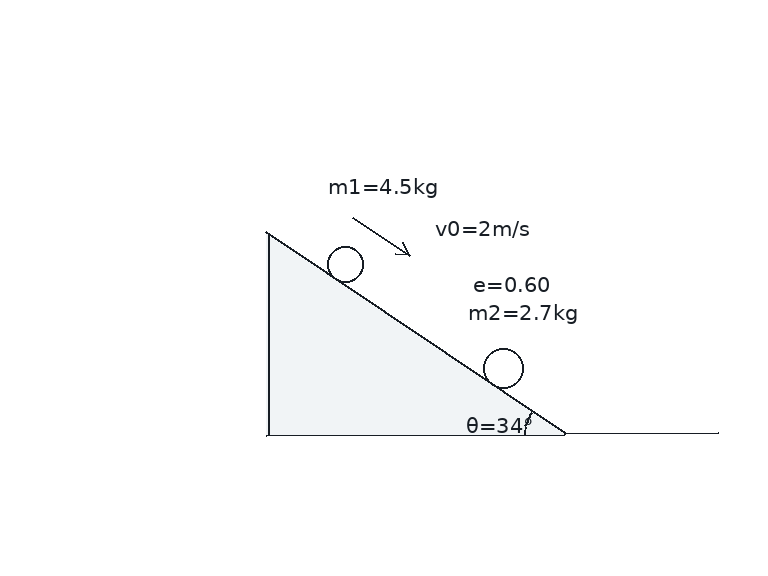ball: (481, 346, 525, 390), (325, 244, 365, 284)
ramp: (265, 231, 567, 436)
